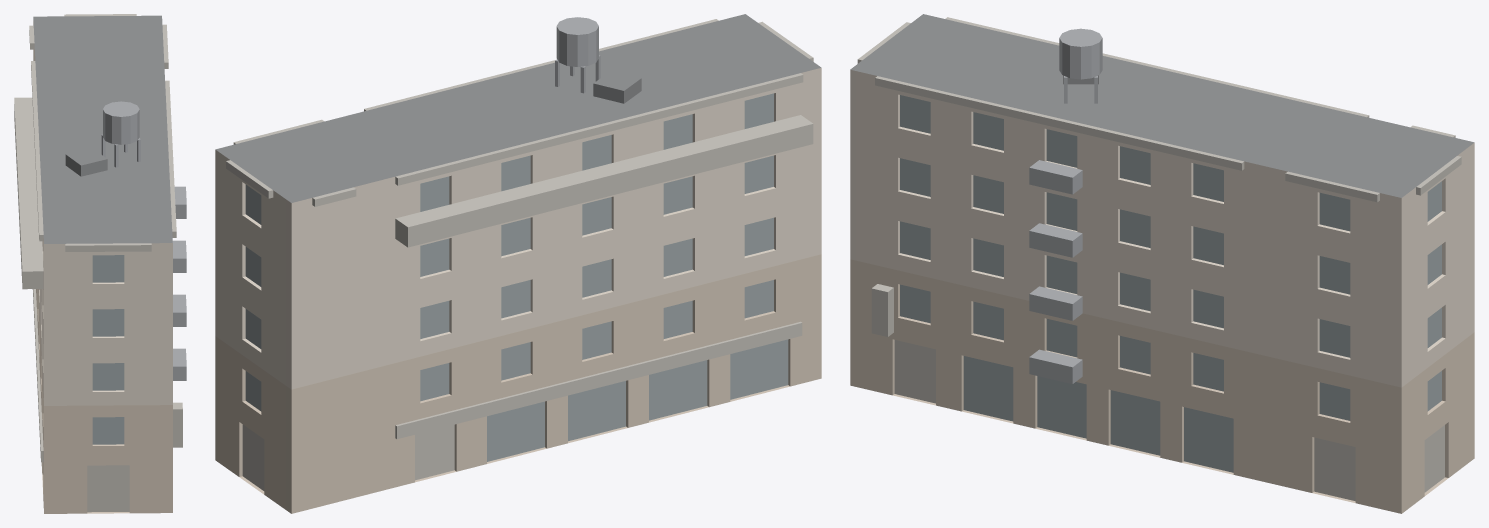
File: doitt-812702__lod_0.glb
3 renders of one model, left to right at view 1: azimuth 30°, elevation 25°; view 2: azimuth 150°, elevation 25°; view 3: azimuth 270°, elevation 25°, orthographic. The views are drawn at different scales.
Bounding box in the file's own units: 21.53 × 19.99 × 30.2.
